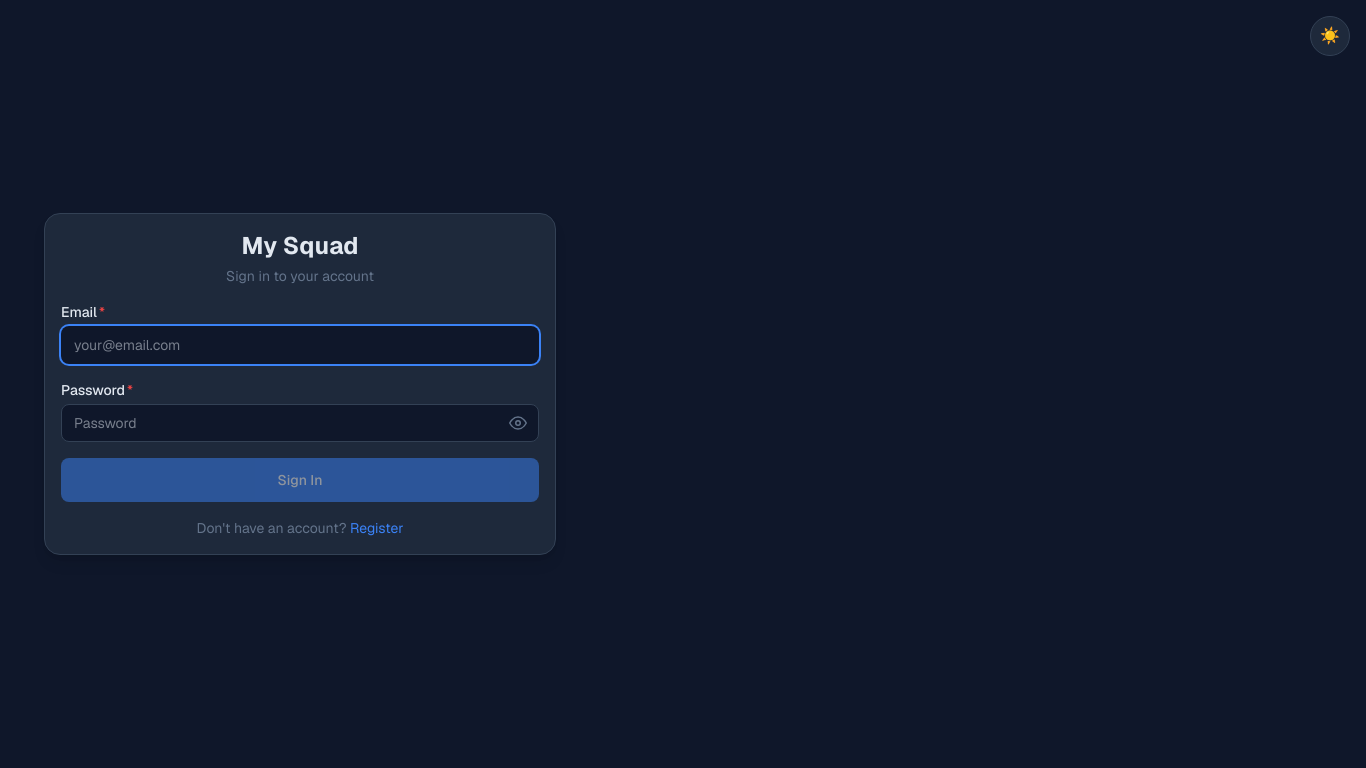
Test: LoginPage › password validation › should show error when password is too short
Type "Ab1" into the password field labelled "Password". click: x=300, y=423
box: [61, 404, 539, 442]
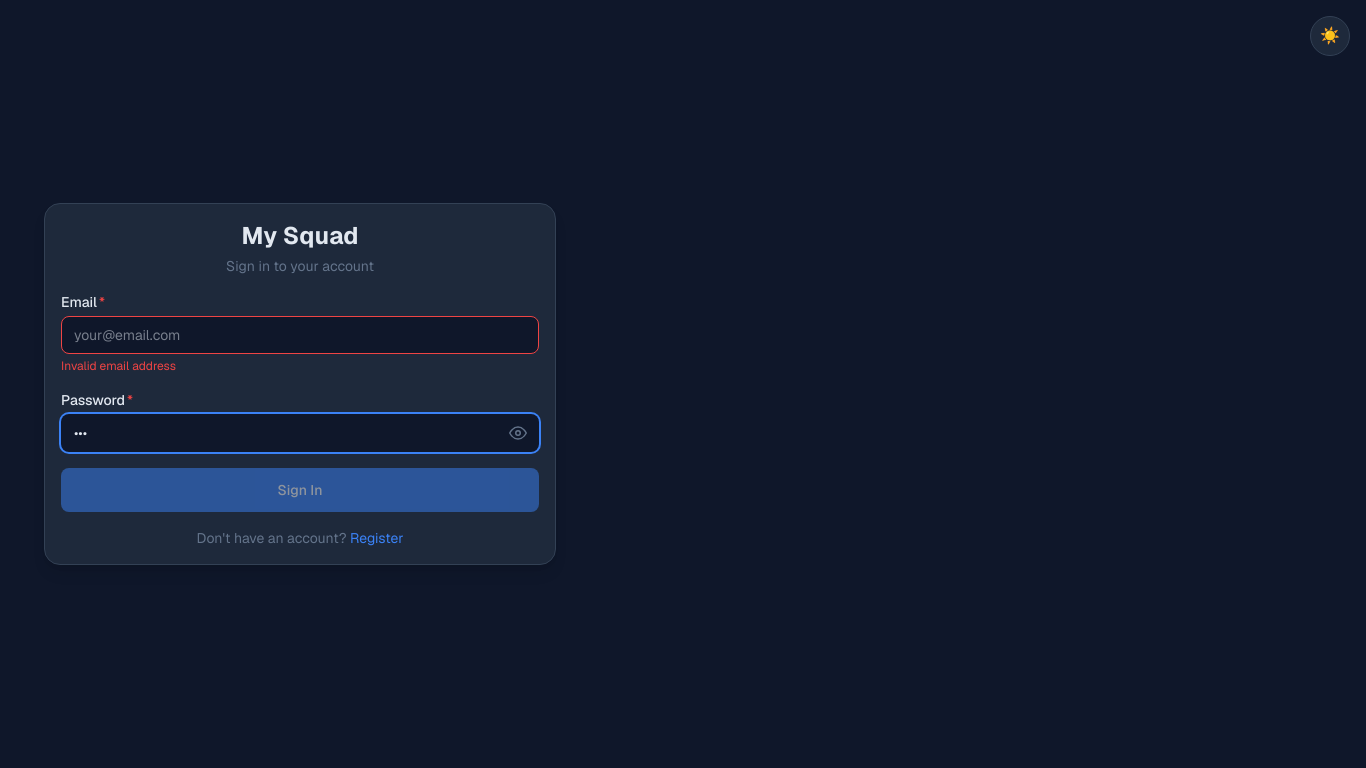
Press Tab
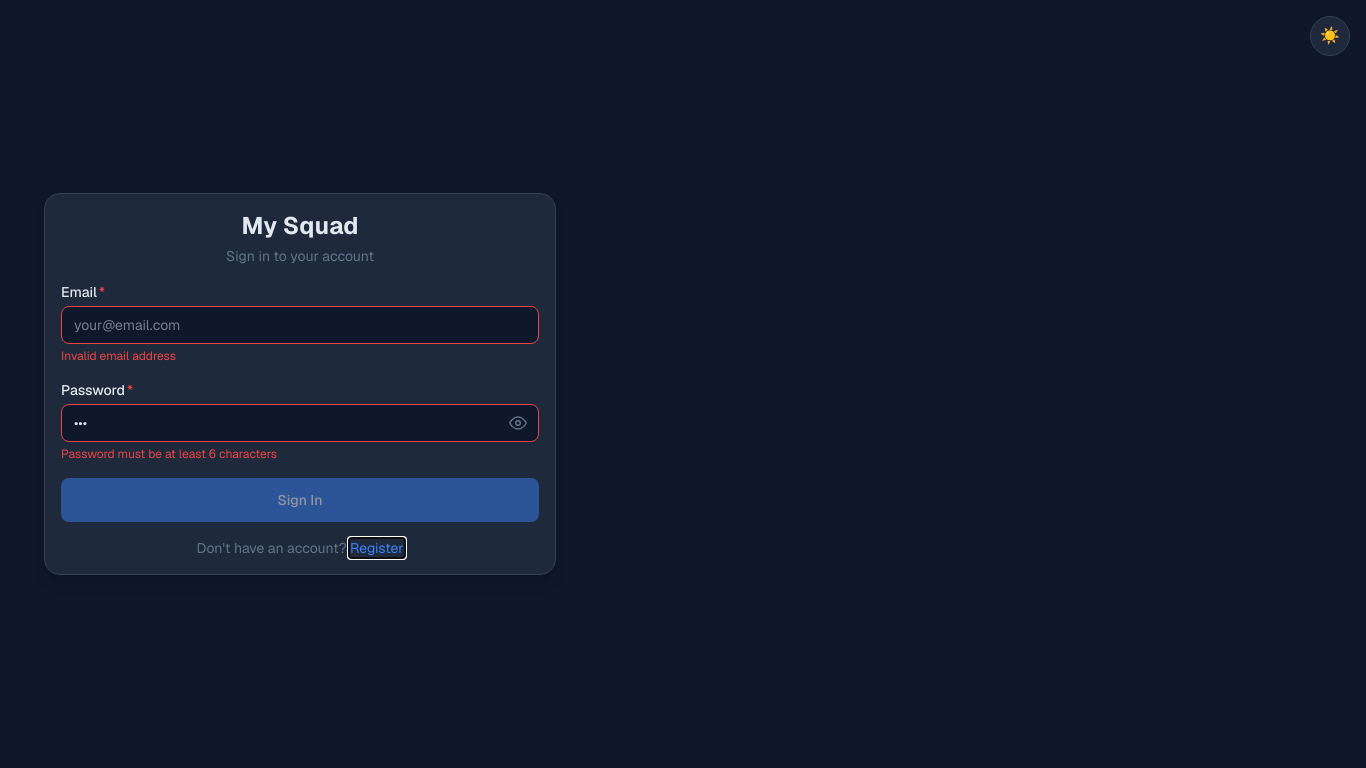
Now the list item "Password must be at least 6 characters" is shown, box [61, 446, 277, 462]
